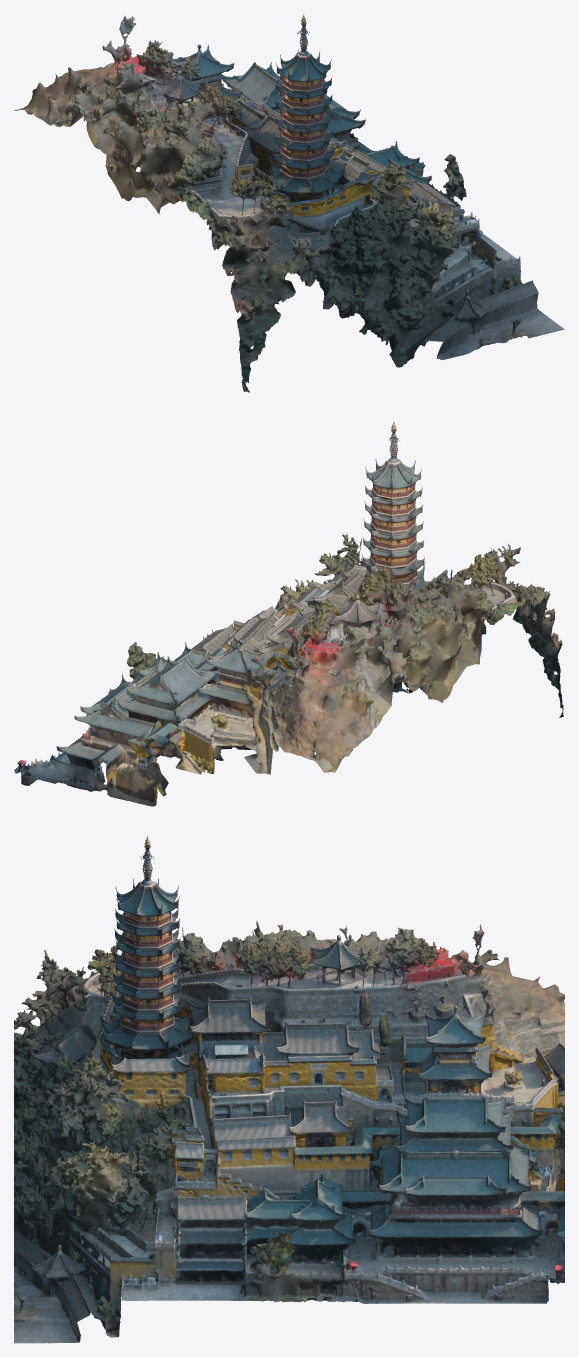
Rendered from jinshan_temple_cishou_pagoda.optimized.glb.
3 renders of one model, top to bottom at view 1: azimuth 30°, elevation 25°; view 2: azimuth 150°, elevation 25°; view 3: azimuth 270°, elevation 25°, orthographic. The views are drawn at different scales.
Visible parts, largest first — view 1: Object_2, Object_4, Object_9, Object_10, Object_6, Object_8, Object_5, Object_12, Object_11, Object_13, Object_3, Object_7 (+1 smaller); view 2: Object_12, Object_2, Object_13, Object_6, Object_11, Object_7, Object_9, Object_8, Object_3, Object_10, Object_4, Object_14 (+1 smaller); view 3: Object_7, Object_10, Object_2, Object_8, Object_12, Object_11, Object_3, Object_4, Object_9, Object_13, Object_5, Object_6 (+1 smaller).
Boxes of the visible parts, box(x1,y1,x2,y2) form: Object_2: box(14, 82, 564, 392); Object_4: box(244, 142, 468, 352); Object_9: box(88, 40, 483, 377); Object_10: box(159, 114, 561, 392); Object_6: box(128, 75, 351, 276); Object_8: box(107, 40, 490, 344); Object_5: box(197, 97, 468, 351); Object_12: box(23, 62, 365, 185); Object_11: box(72, 14, 507, 332); Object_13: box(48, 45, 355, 317); Object_3: box(136, 71, 472, 350); Object_7: box(70, 97, 412, 301); Object_12: box(74, 579, 514, 789); Object_2: box(14, 577, 563, 806); Object_13: box(151, 544, 520, 773); Object_6: box(273, 482, 548, 681); Object_11: box(108, 421, 429, 708); Object_7: box(17, 571, 550, 805); Object_9: box(173, 572, 562, 718); Object_8: box(17, 551, 530, 806); Object_3: box(196, 554, 440, 671); Object_10: box(129, 568, 479, 679); Object_4: box(256, 548, 401, 688); Object_14: box(372, 556, 515, 591); Object_7: box(58, 969, 564, 1302); Object_10: box(14, 941, 353, 1342); Object_2: box(14, 922, 564, 1343); Object_8: box(31, 939, 564, 1303); Object_12: box(14, 932, 564, 1265); Object_11: box(32, 836, 499, 1307); Object_3: box(32, 924, 353, 1291); Object_4: box(27, 969, 234, 1264); Object_9: box(14, 927, 491, 1298); Object_13: box(14, 945, 564, 1215); Object_5: box(31, 931, 266, 1288); Object_6: box(49, 907, 313, 1106).
Bounding box in the file's own units: 327 × 318 × 407.
Materials: 1 (1 with a texture image).
